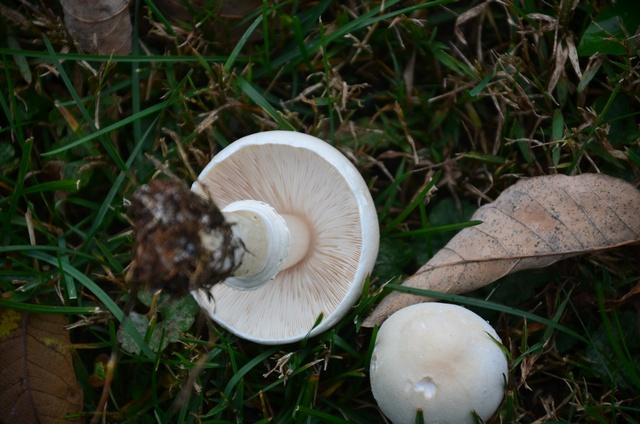poisonous_mushroom: (185, 128, 380, 345), (368, 300, 509, 423)
